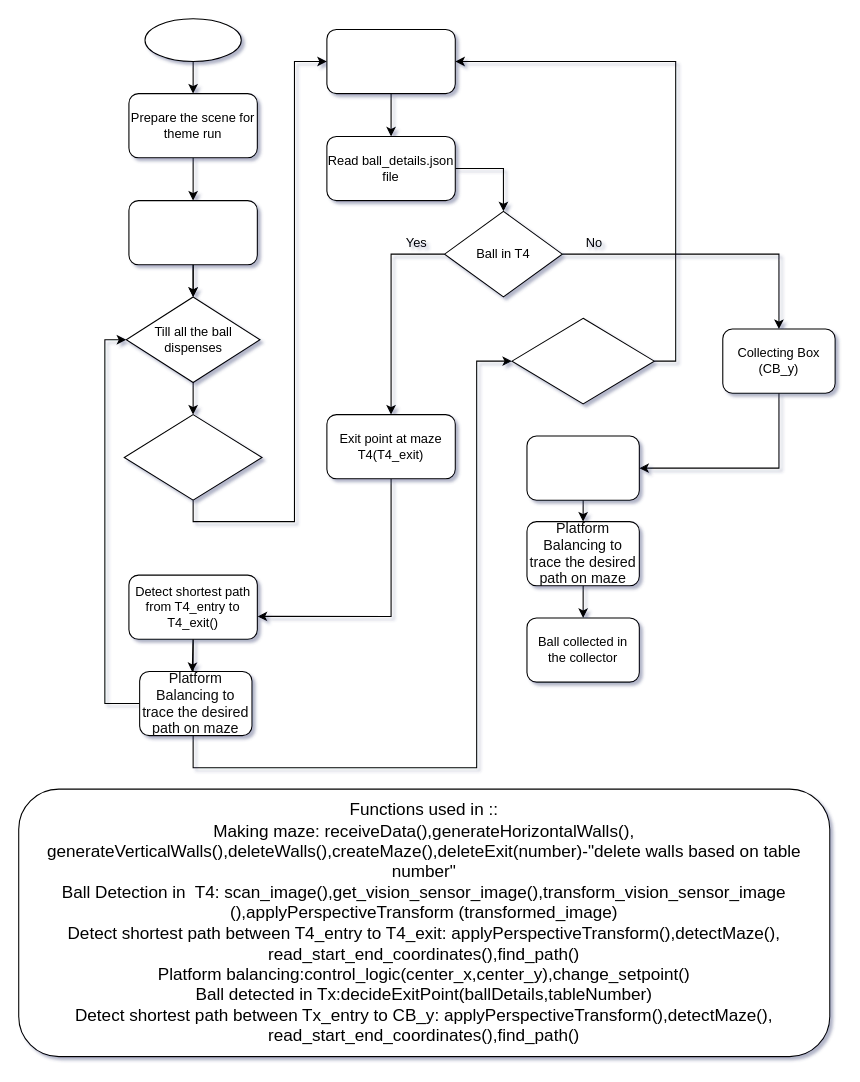
This 860x1082 diagram has some shape labels left out. Here are the shapes that lost their labels. From the top down, the centre of each, then its label:
At pixel 192 40: "Start".
At pixel 390 61: "Color of ball".
At pixel 192 232: "Making maze".
At pixel 582 360: "Ball detected in Tx".
At pixel 192 457: "Ball detected in T4".
At pixel 582 467: "Detect shortest path from Tx_entry to CB_y".
